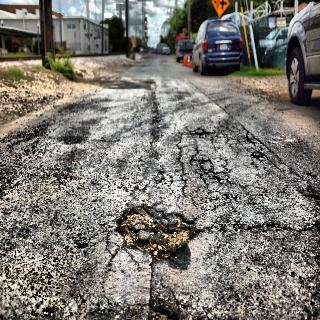alligator-crack: (183, 90, 270, 194)
pothole: (111, 195, 199, 278), (136, 294, 180, 320)
